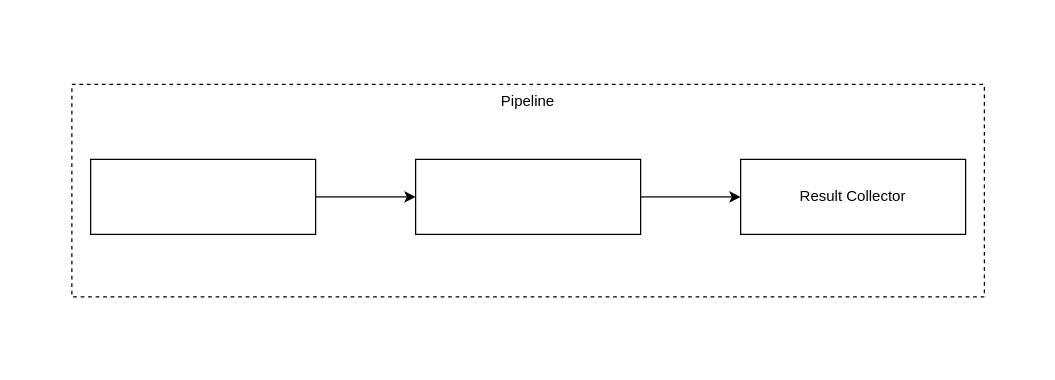
Image size: 1055x380. Some labels were removed from this diagram. The centre of each missing label's shape, as x and y in pixels:
File Reader: the point at 202,196
KPI Extractor: the point at 527,196
